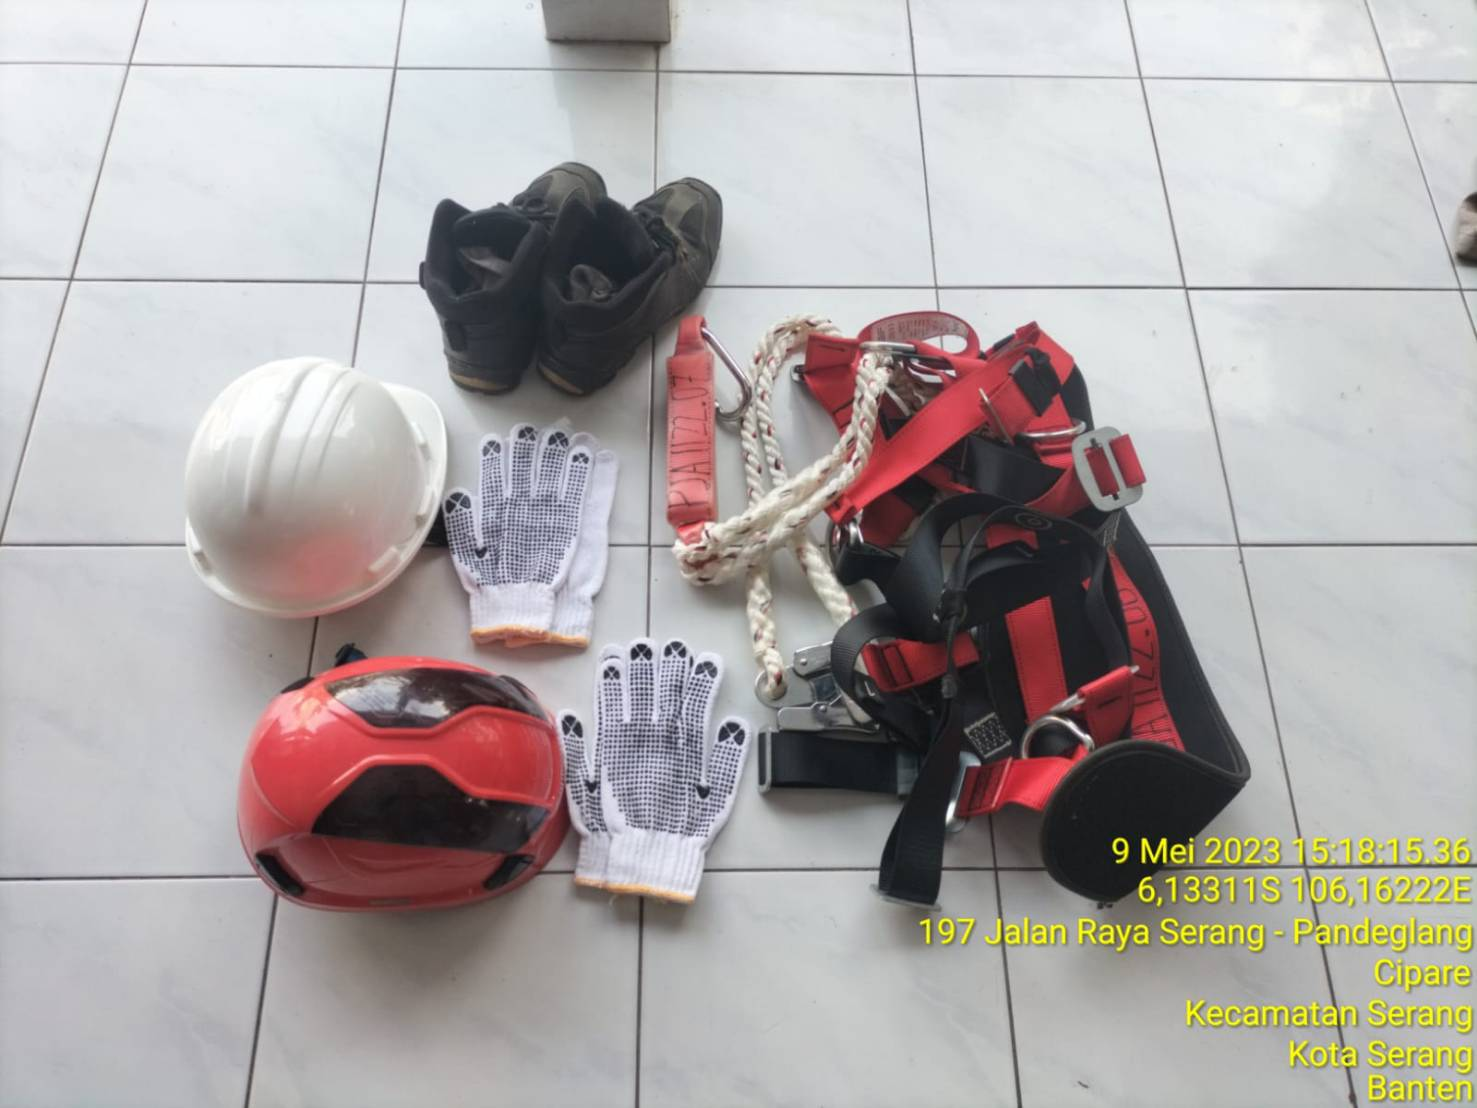HELM: (250, 656, 556, 908)
SARUNG_TANGAN: (448, 428, 587, 642)
SEPATU: (429, 163, 652, 390)
TAMBANG_SLING: (747, 317, 1098, 822)
